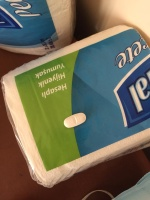Centik Buskopan: (62, 112, 87, 129)
